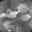people: (18, 3, 29, 14), (7, 9, 18, 18), (3, 20, 14, 29), (19, 14, 30, 22), (1, 13, 8, 18)
